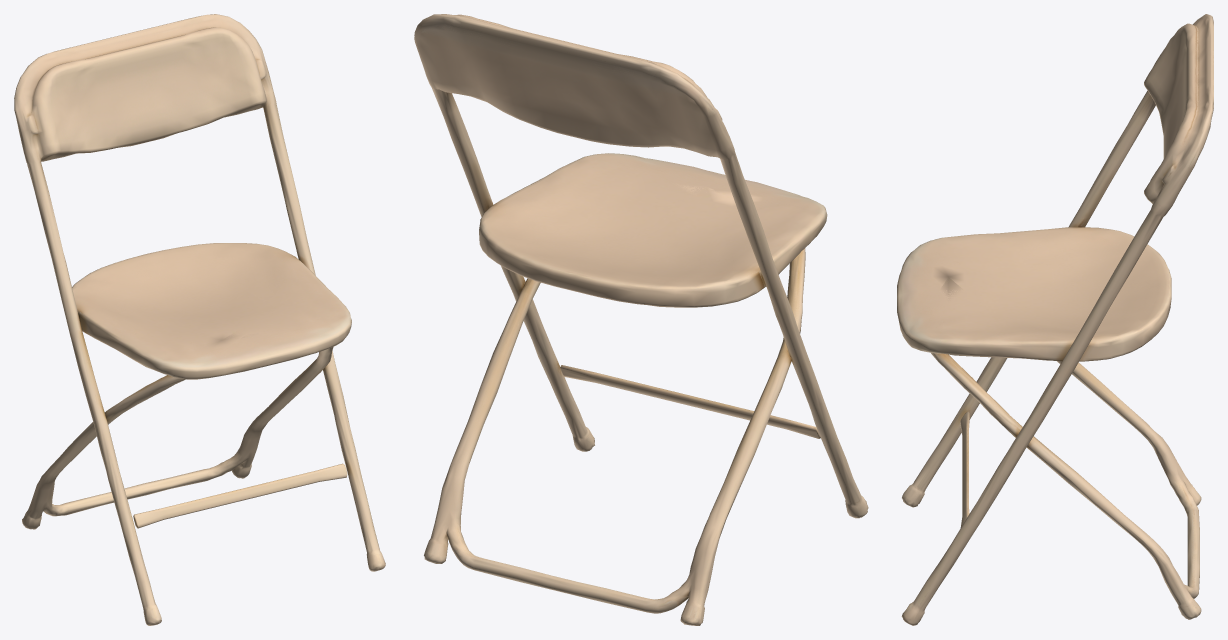
The model's file is Chair_Folding_Neutra_0320031852_texture.glb.
3 renders of one model, left to right at view 1: azimuth 30°, elevation 25°; view 2: azimuth 150°, elevation 25°; view 3: azimuth 270°, elevation 25°, orthographic. The views are drawn at different scales.
Visible parts, largest first — view 1: Mesh_0.002; view 2: Mesh_0.002; view 3: Mesh_0.002.
Boxes of the visible parts, x1=… form: Mesh_0.002: x1=14, y1=14, x2=385, y2=625; Mesh_0.002: x1=414, y1=14, x2=868, y2=625; Mesh_0.002: x1=897, y1=14, x2=1213, y2=625.
Size of the model in its own units: 0.5126 by 0.9144 by 0.5201.
Materials: 1 (1 with a texture image).
